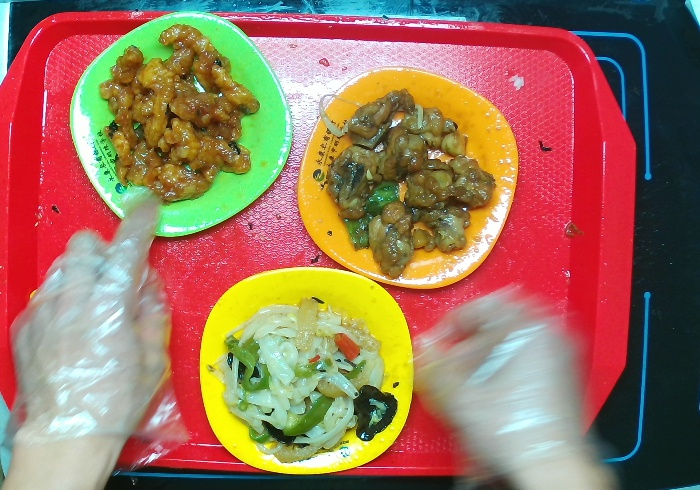YKMZ-Huang_Se_Fang_Die: (197, 268, 416, 477)
YKMZ-Ju_Se_Fang_Die: (295, 64, 520, 293)
YKMZ-Lv_Se_Fang_Die: (67, 9, 294, 239)
